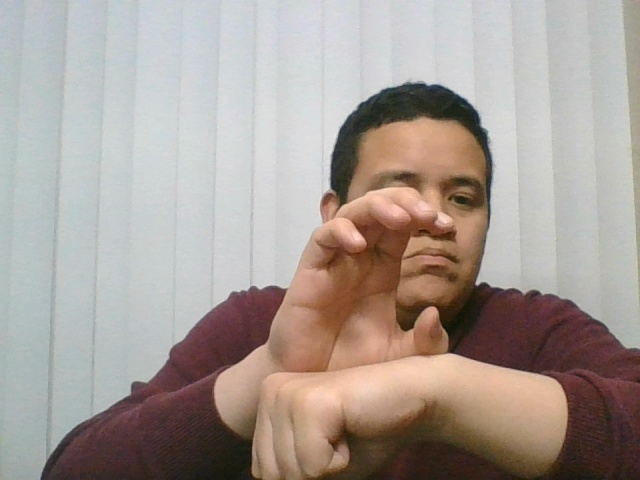Church: (227, 179, 472, 480)
